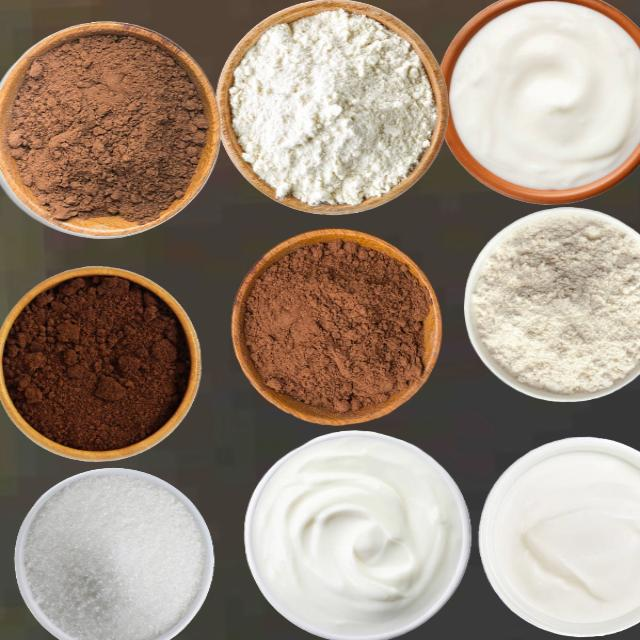Cocoa: (0, 21, 216, 235), (232, 229, 440, 425)
Coffee: (1, 271, 191, 453)
Flour: (227, 7, 436, 206), (470, 212, 639, 394)
Sugar: (16, 467, 211, 639)
